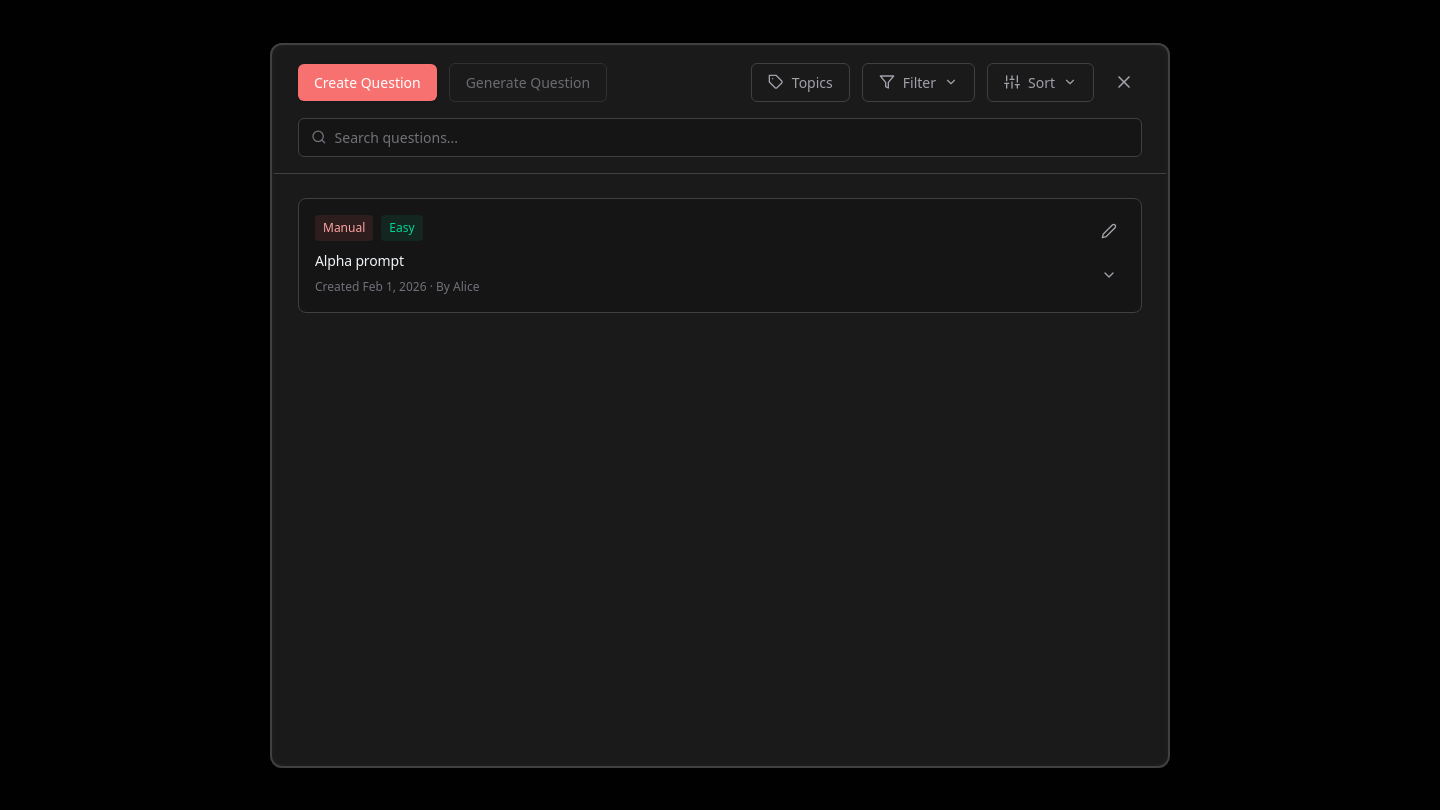
Test: ManageQuestionsModal › shows filtered empty state message when query yields no matches
Step 1. Type "zzz" into the field with placeholder "Search questions..." → (732, 137), box [334,126,1129,148]
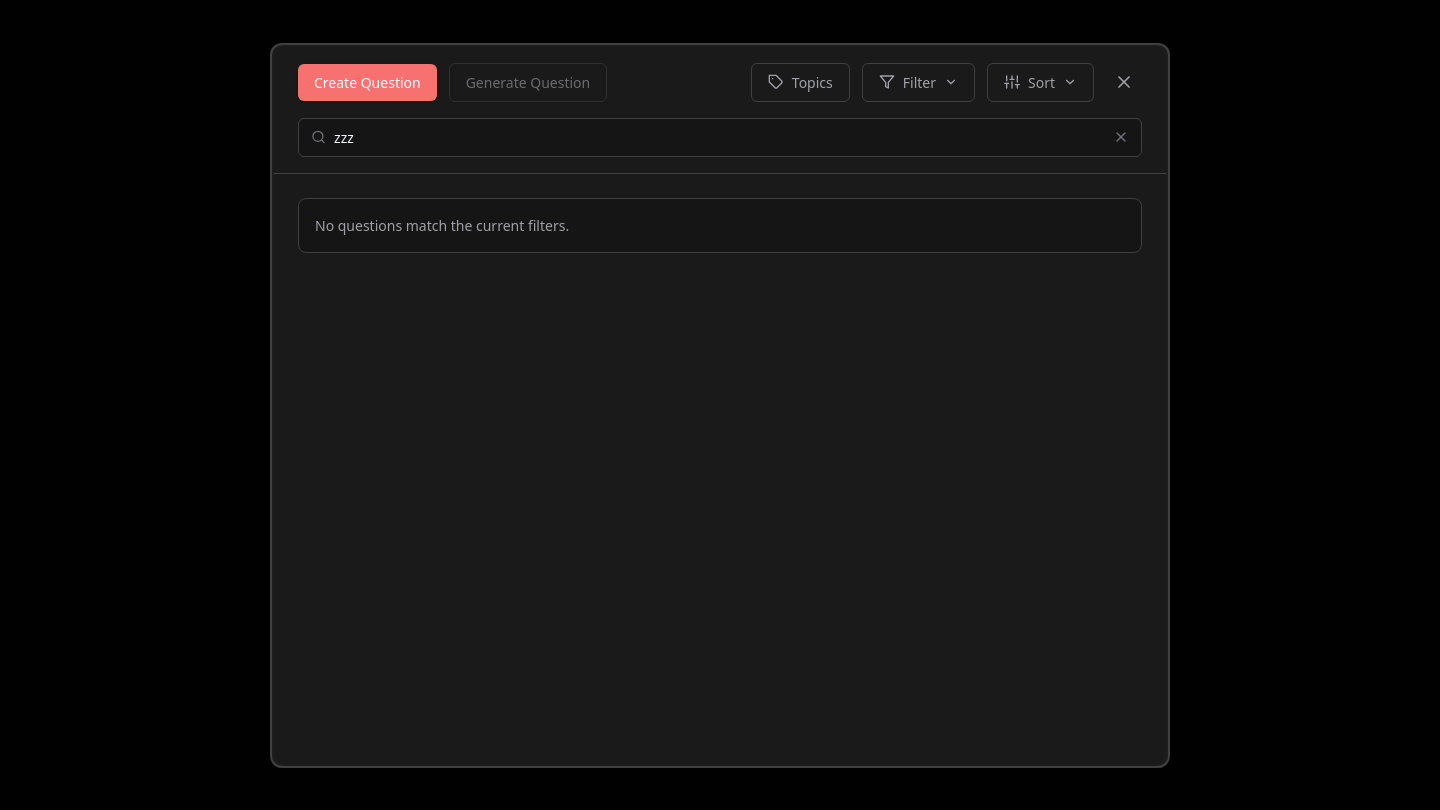
Expected: the text "No questions match the current filters." is shown, [298,198,1142,252]
